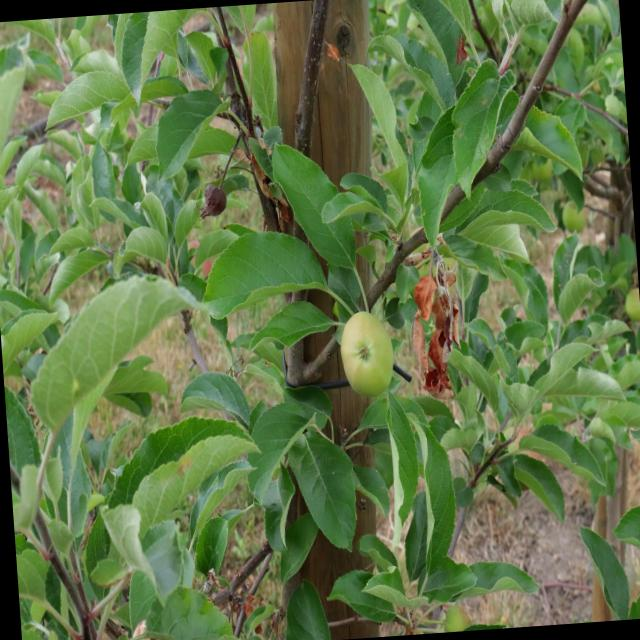-FireBlight-: (402, 245, 459, 398)
